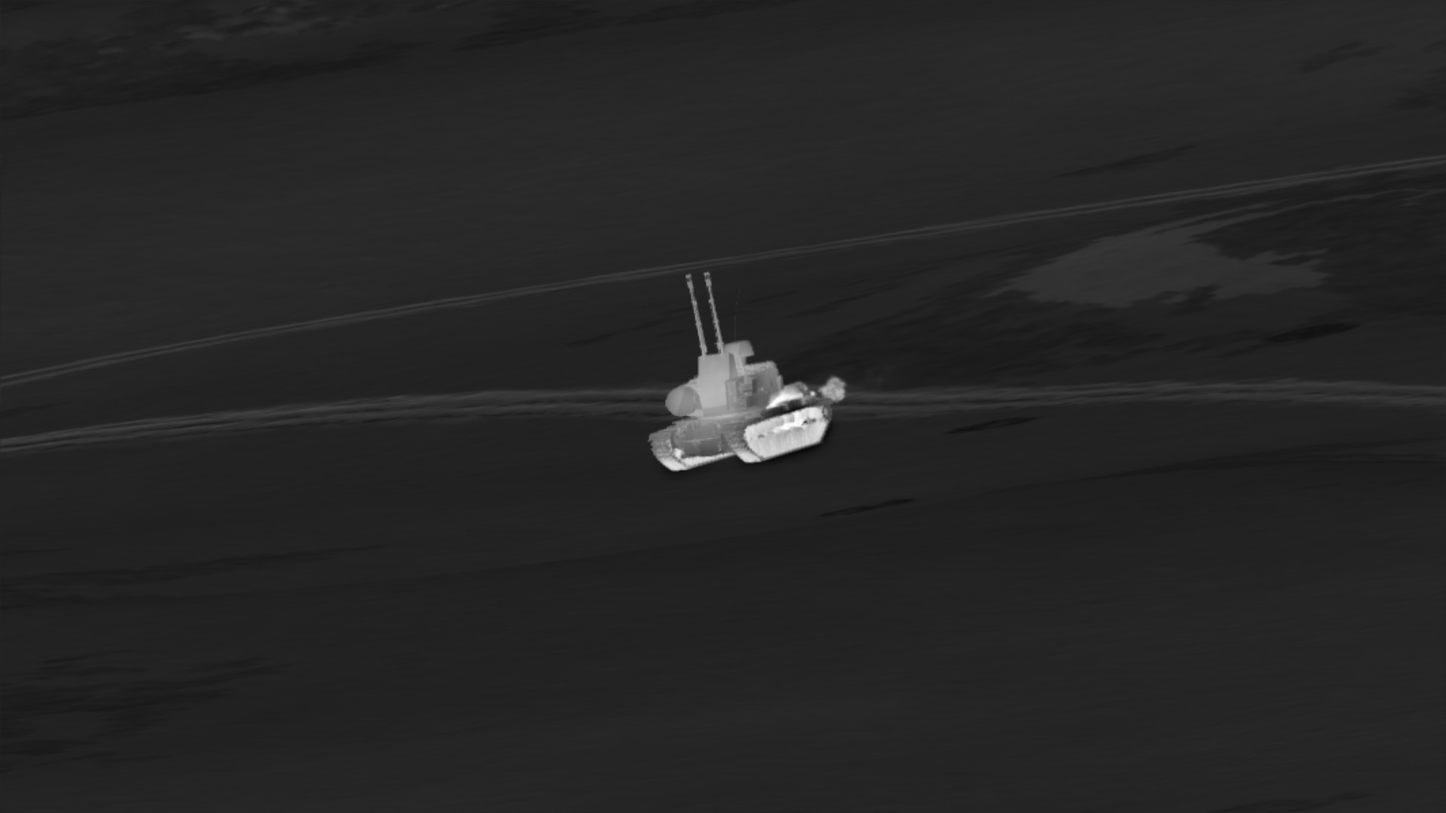spaa_gepard: (645, 270, 834, 477)
